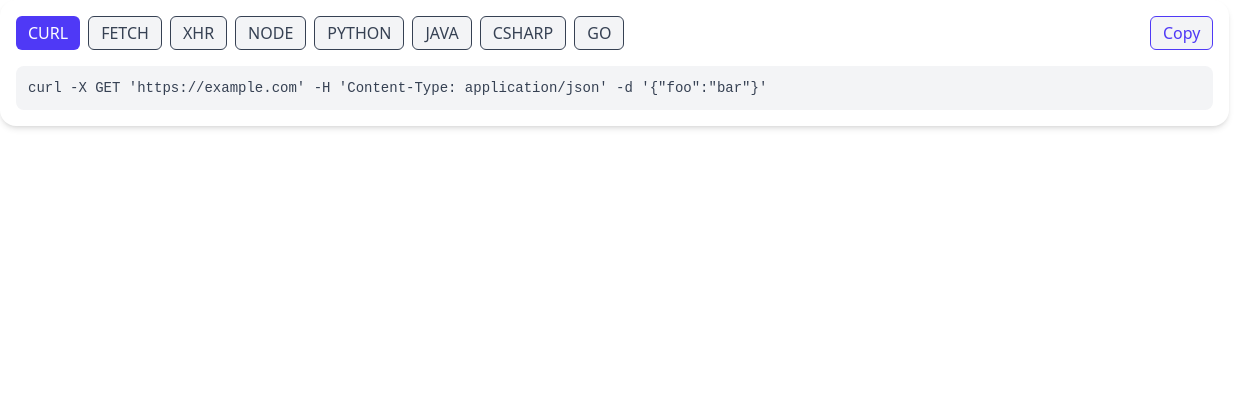
Scenario: CodeGenerator › generates csharp code
Click the button "CSHARP" at {"x": 523, "y": 33}, box [480,16,566,50]
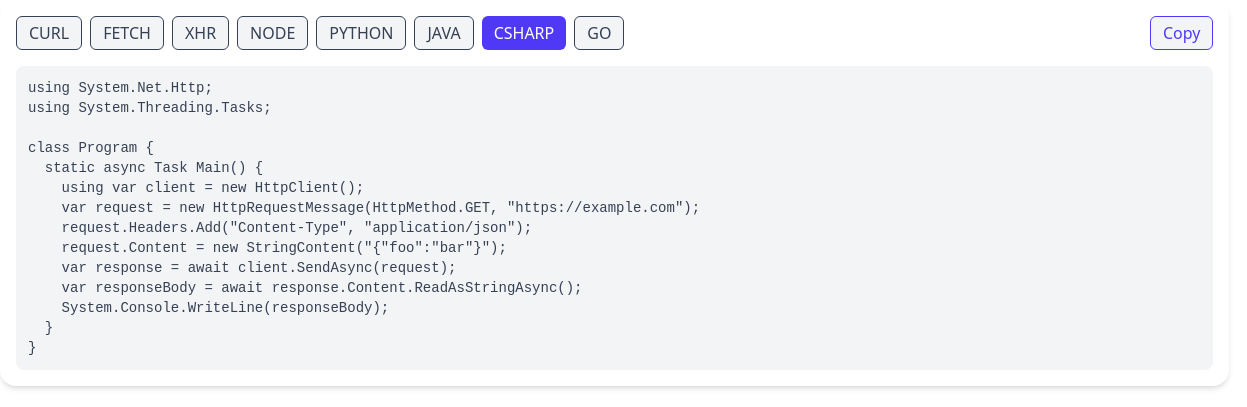
Check: the text "using System.Net.Http" is shown, box [28,80,700,356]
